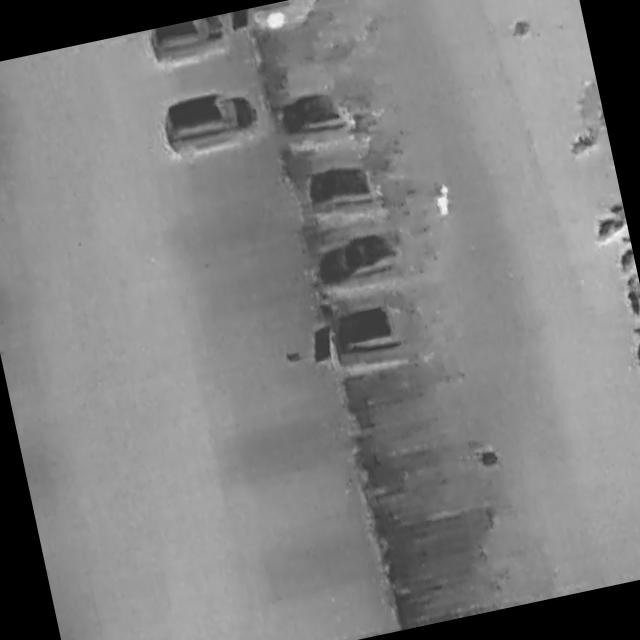person: (430, 181, 455, 221)
